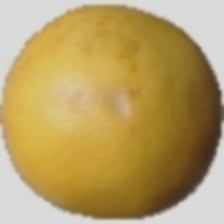grapes: (18, 0, 176, 197)
